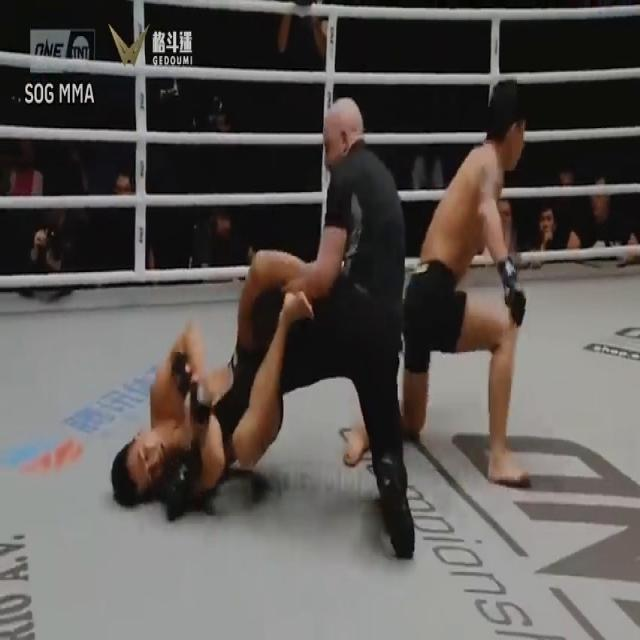fight: (108, 81, 544, 572)
